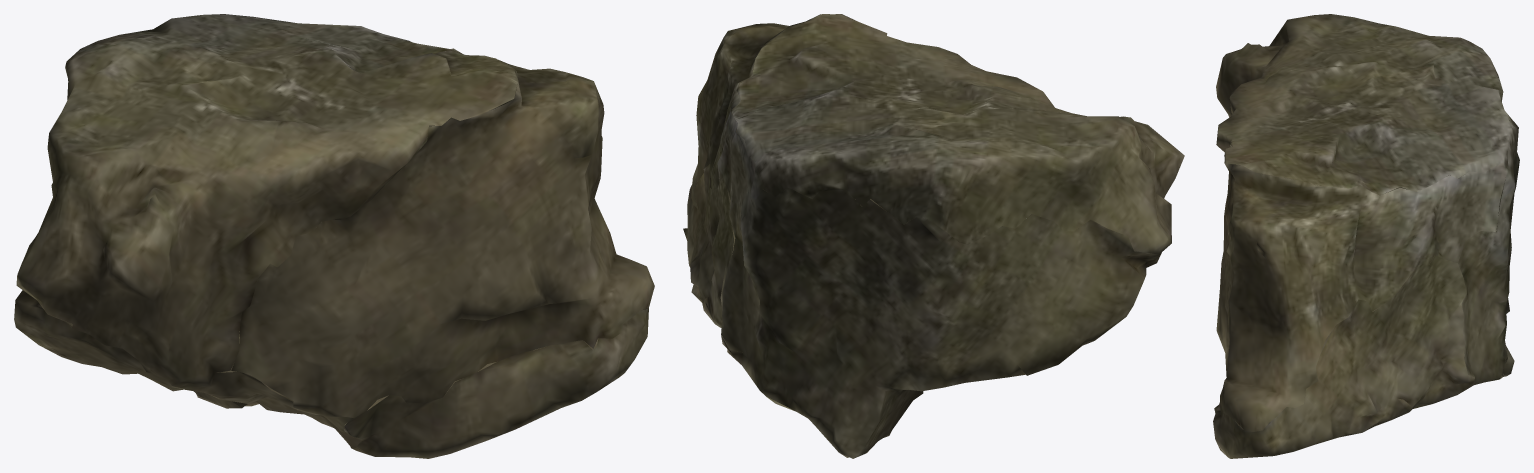
Rendered from rock_moss_set_02_5.glb.
3 renders of one model, left to right at view 1: azimuth 30°, elevation 25°; view 2: azimuth 150°, elevation 25°; view 3: azimuth 270°, elevation 25°, orthographic. The views are drawn at different scales.
Parts seen in each view (by area): view 1: rock_moss_set_02_rock13; view 2: rock_moss_set_02_rock13; view 3: rock_moss_set_02_rock13.
Part boxes in pixels (x1,y1,x2,y2): rock_moss_set_02_rock13: [14, 14, 654, 458]; rock_moss_set_02_rock13: [683, 14, 1184, 458]; rock_moss_set_02_rock13: [1213, 14, 1519, 458].
Size of the model in its own units: 2.09 by 1.25 by 1.14.
1 material, 1 textured.
